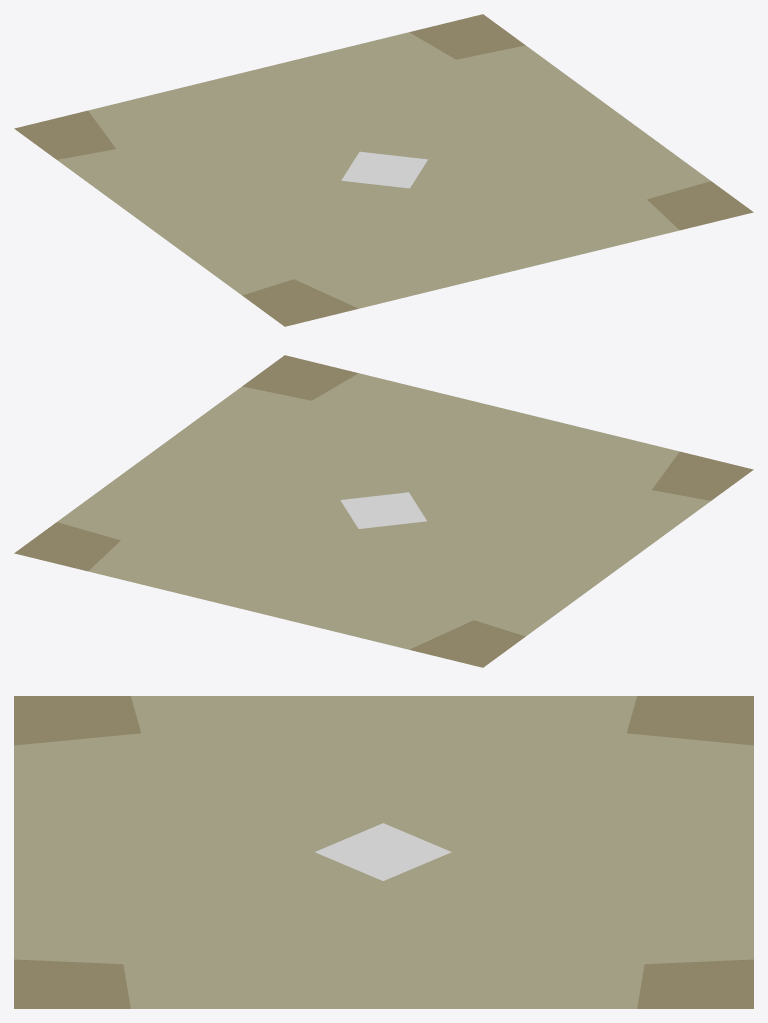
File: Center.fbx
The picture shows the model from 3 angles, top to bottom: view 1: azimuth 30°, elevation 25°; view 2: azimuth 150°, elevation 25°; view 3: azimuth 270°, elevation 25°; orthographic projection. The views are drawn at different scales.
Parts seen in each view (by area): view 1: polySurface7478; view 2: polySurface7478; view 3: polySurface7478.
Boxes of the visible parts, left/top/right/bottom form: polySurface7478: left=14, top=14, right=753, bottom=326; polySurface7478: left=14, top=355, right=753, bottom=667; polySurface7478: left=14, top=696, right=753, bottom=1008.
Bounding box in the file's own units: 100 × 0.1 × 100.
